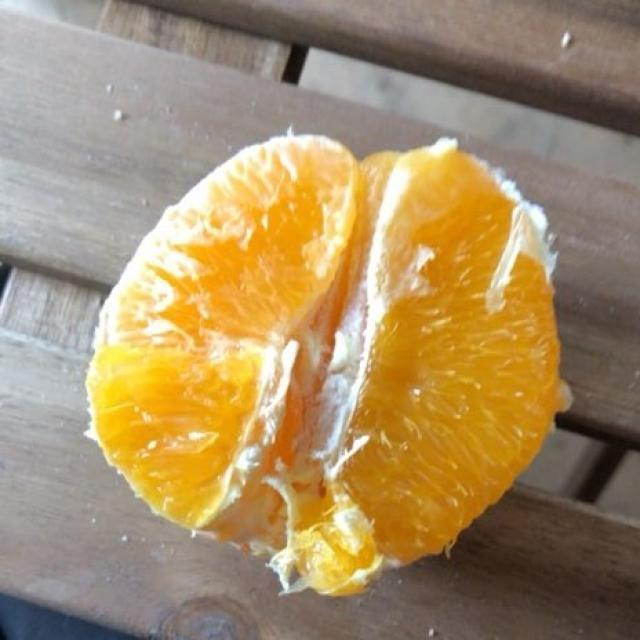orange: (94, 136, 559, 594)
